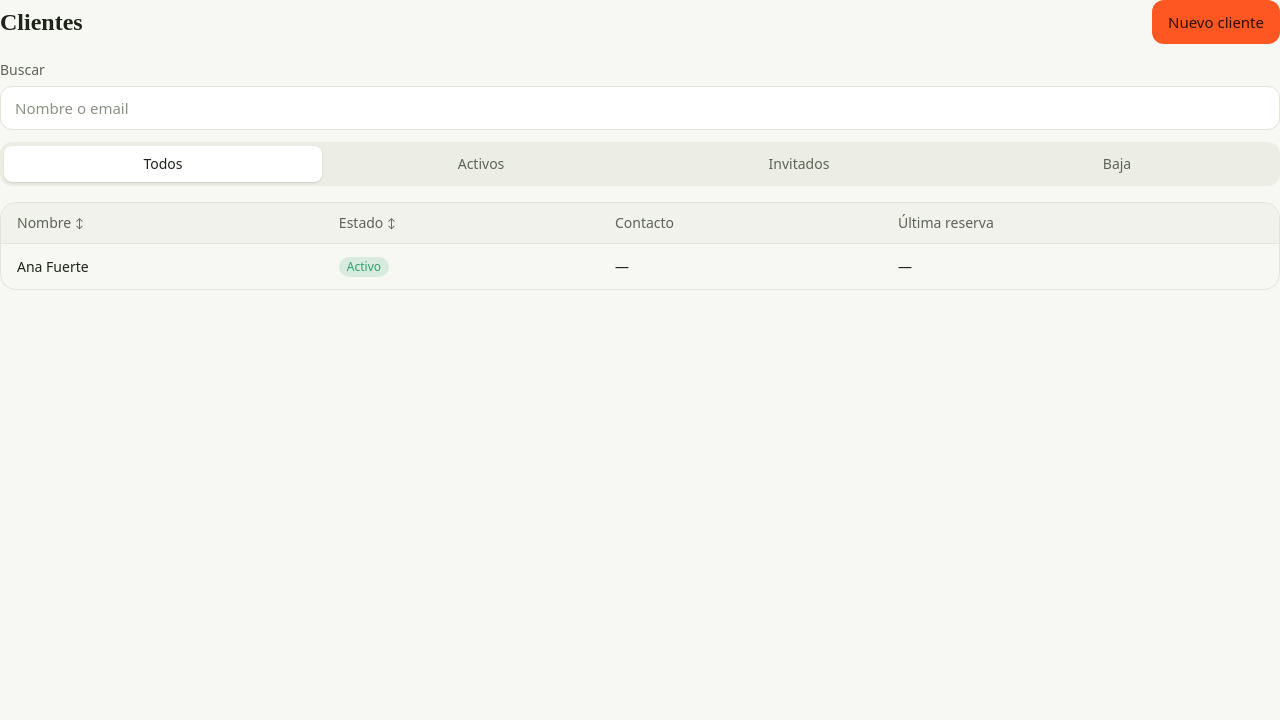
Scenario: Clients (F3-05) › ALREADY_MEMBER se explica en el formulario, no en un toast que se va
The image size is (1280, 720).
Click the button "Nuevo cliente" at (1216, 22), box [1152, 0, 1279, 44]
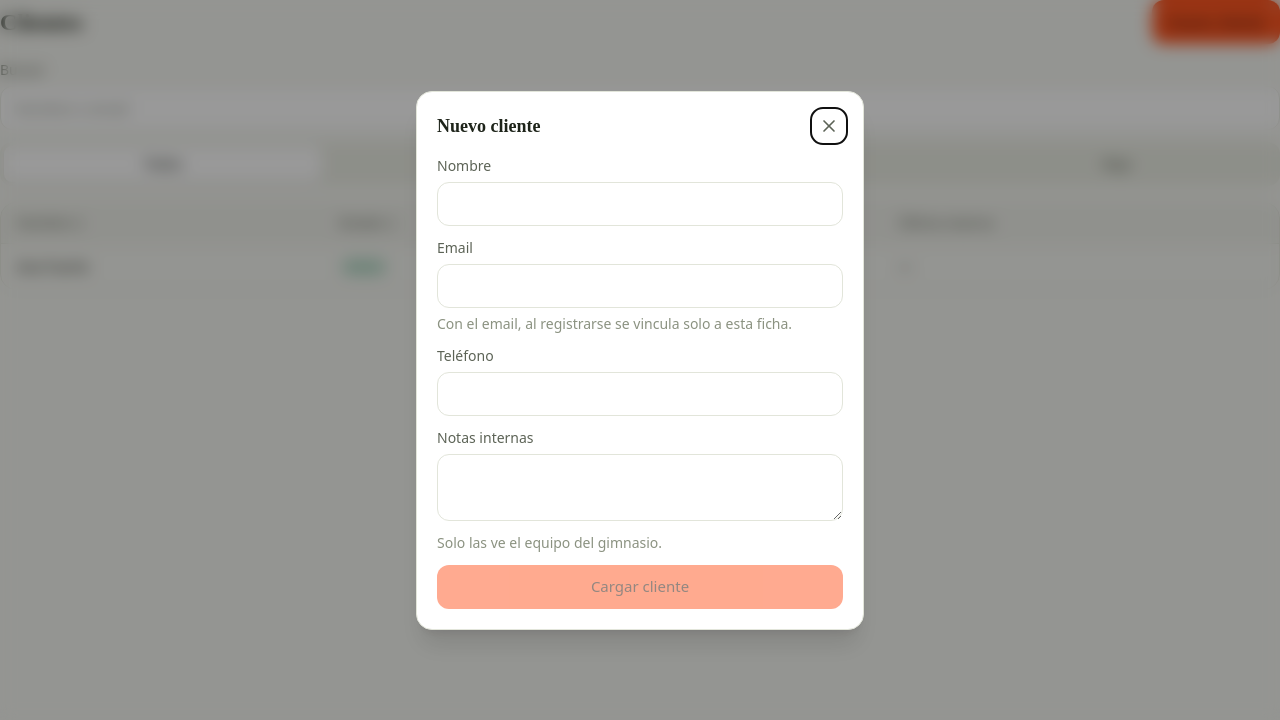
Type "Carla" into the field labelled "Nombre" at (640, 204), box [437, 182, 843, 226]
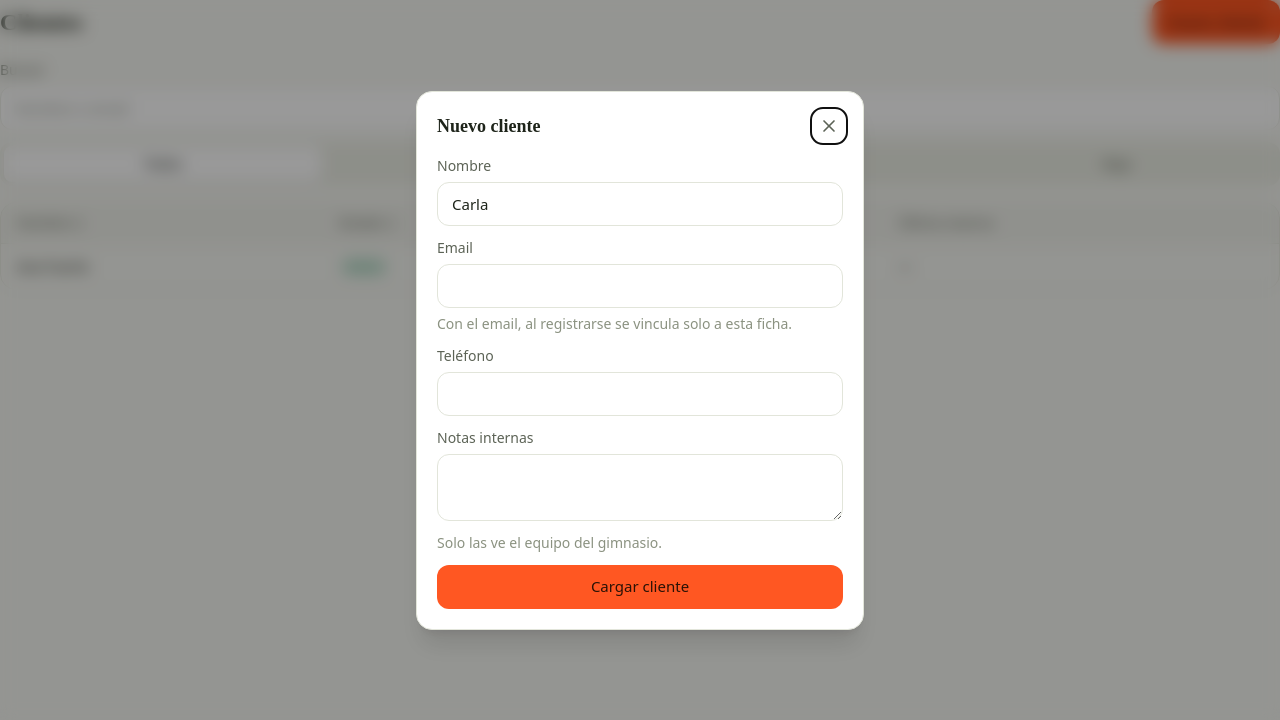
Type "ana@test.com" into the field labelled "Email" at (640, 286), box [437, 264, 843, 308]
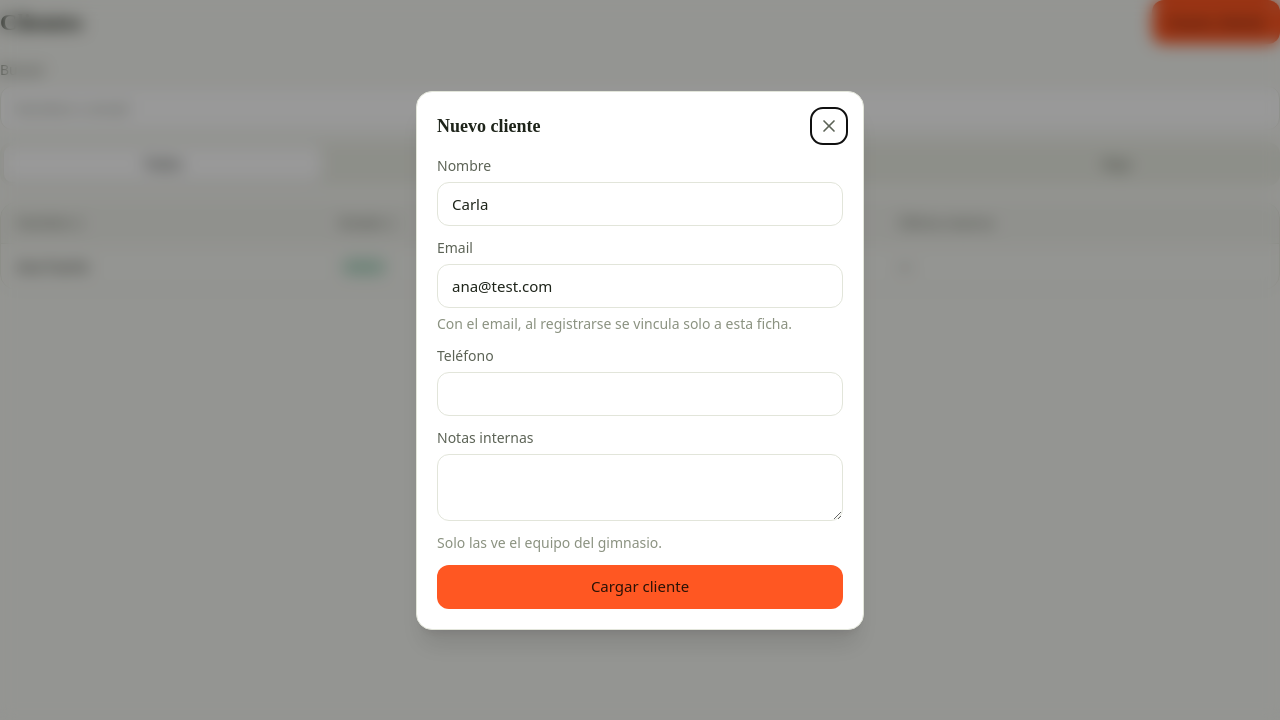
Click the button "Cargar cliente" at (640, 586), box [437, 564, 843, 608]
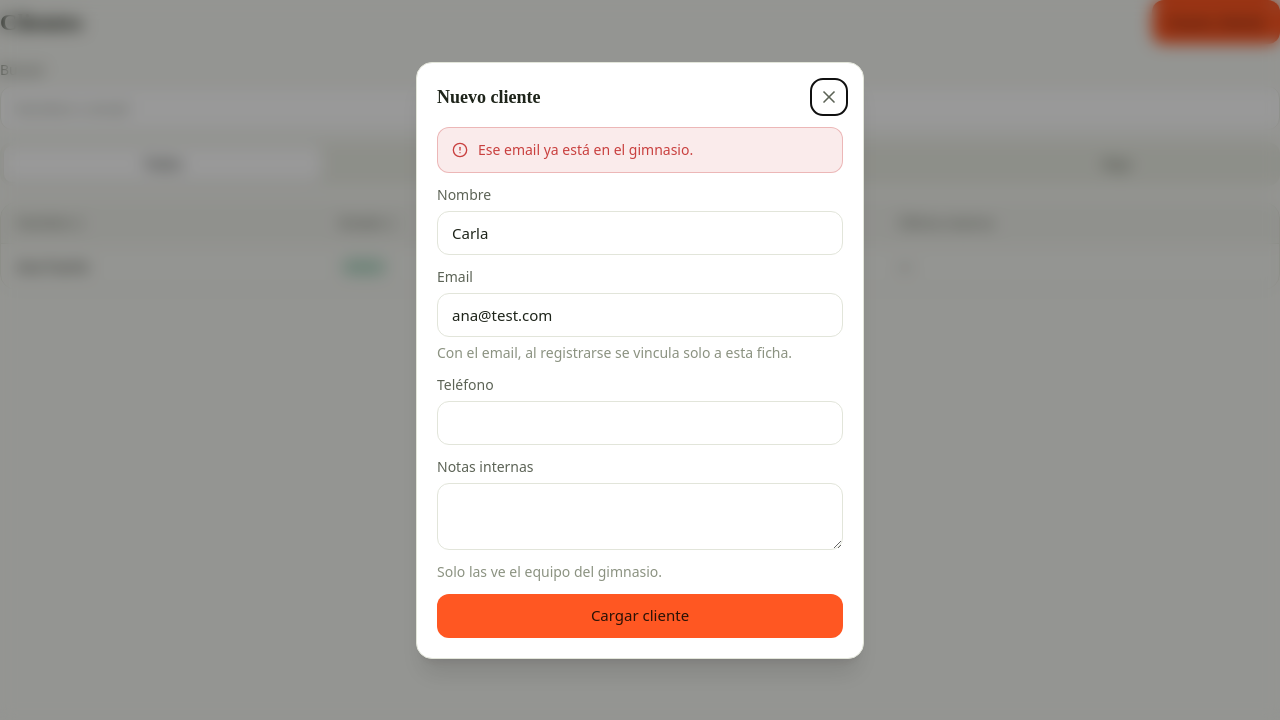
Now the message "Ese email ya está en el gimnasio." is shown, box [437, 126, 843, 172]
Now the text "Ese email ya está en el gimnasio." is shown, box [478, 140, 693, 160]
